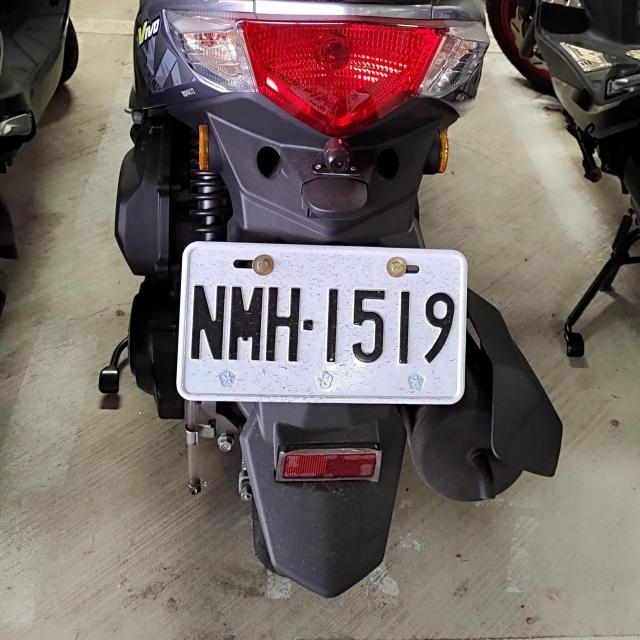W: (176, 242, 469, 404)
